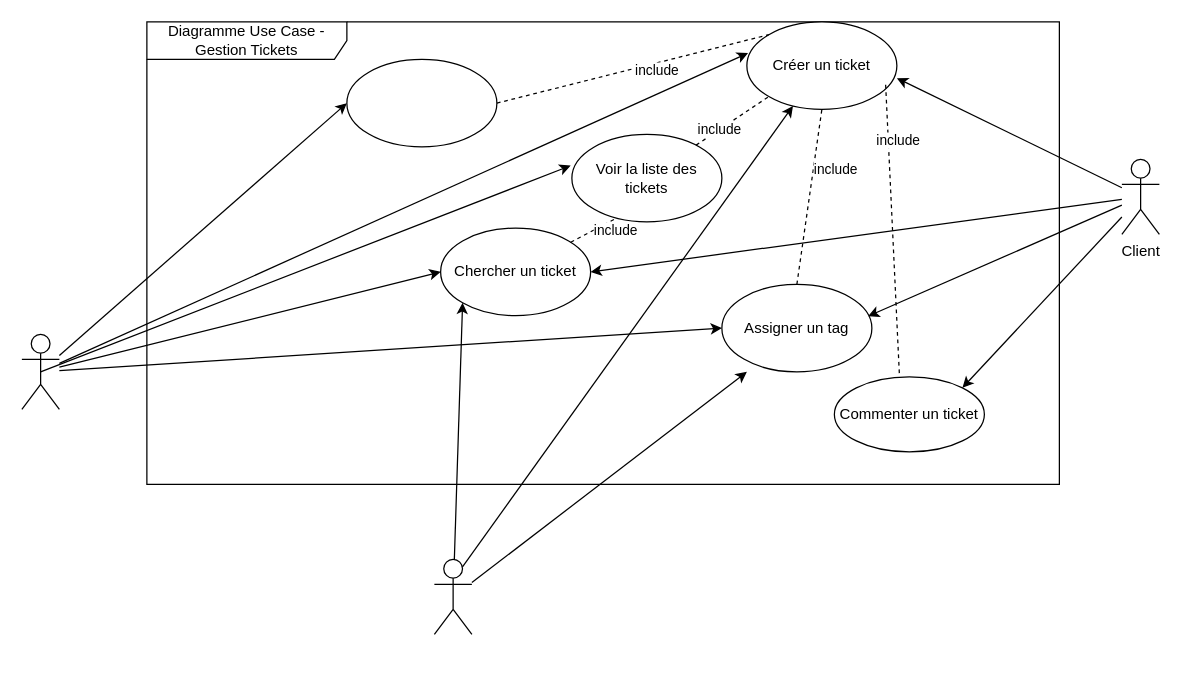
Image size: 1181x683. Some labels were removed from this diagram. The box of each missing label's shape, as (x1, y1, x2, y2) in pixels:
Assigner un ticket: (346, 58, 497, 147)
CDP: (21, 333, 59, 409)
Dev: (433, 558, 472, 634)
